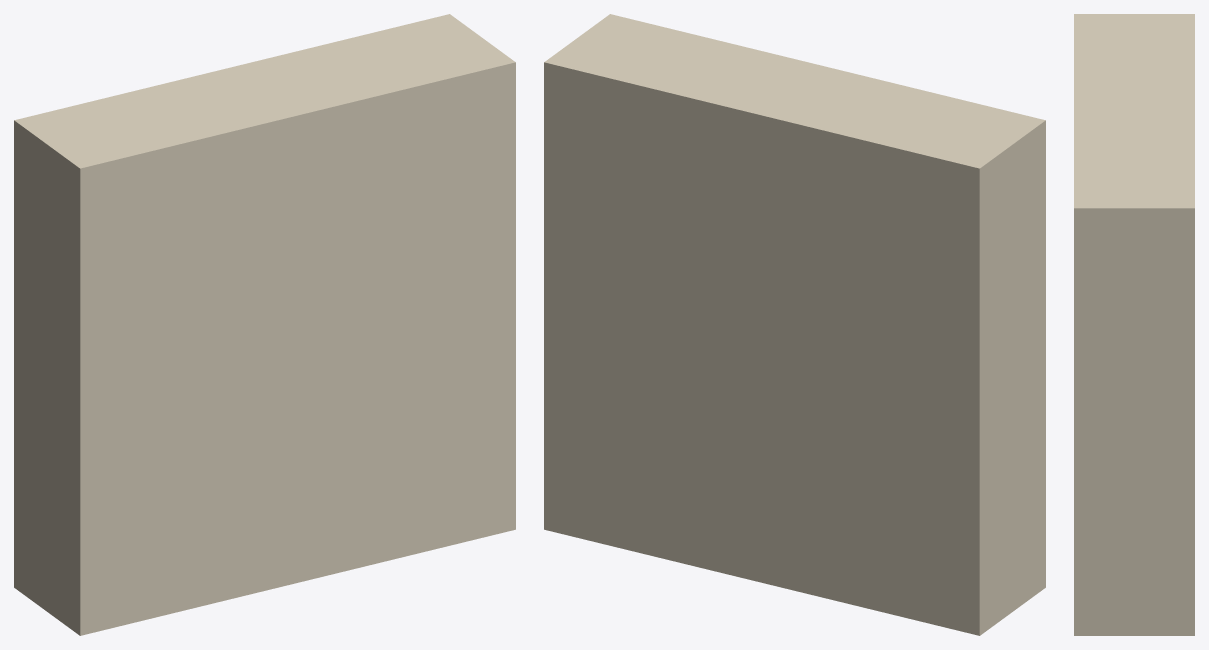
3 views of the same model, side by side, from view 1: azimuth 30°, elevation 25°; view 2: azimuth 150°, elevation 25°; view 3: azimuth 270°, elevation 25° (orthographic). The views are drawn at different scales.
Parts seen in each view (by area): view 1: A-FF-WINDOW-013-SILL; view 2: A-FF-WINDOW-013-SILL; view 3: A-FF-WINDOW-013-SILL.
Boxes of the visible parts, x1,y1,x2,y2 form: A-FF-WINDOW-013-SILL: (14, 14, 515, 635); A-FF-WINDOW-013-SILL: (544, 14, 1045, 635); A-FF-WINDOW-013-SILL: (1074, 14, 1194, 635).
Bounding box in the file's own units: 0.8 × 0.82 × 0.21.
